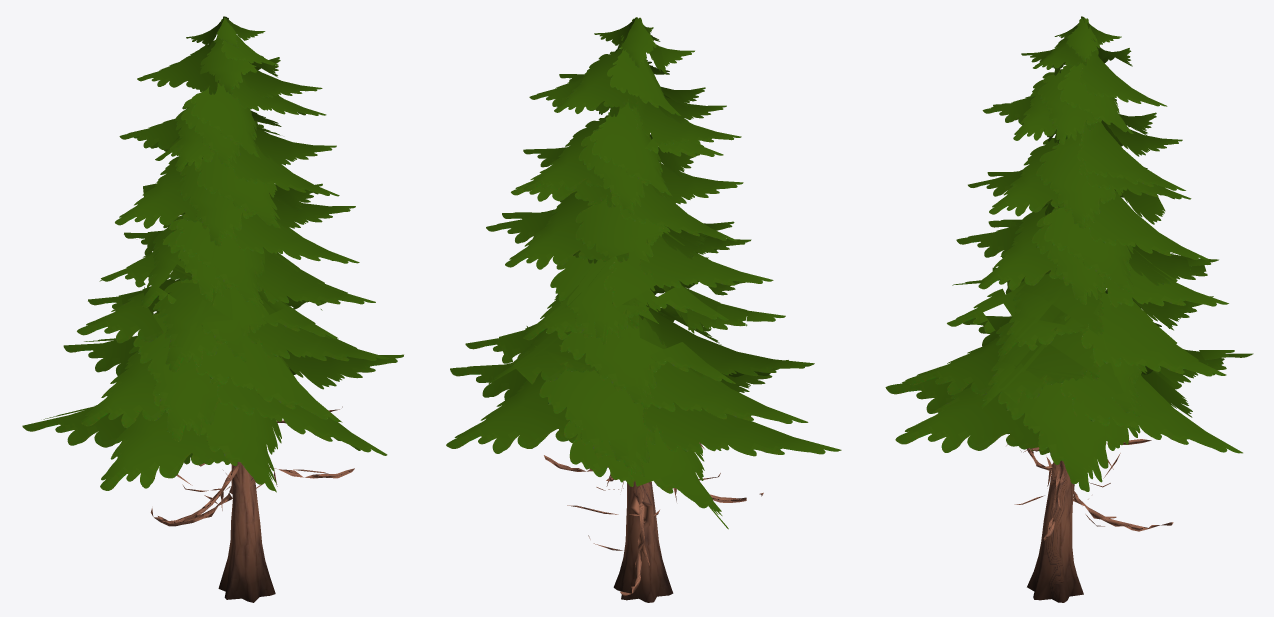
The model's file is Pine_4.glb.
3 renders of one model, left to right at view 1: azimuth 30°, elevation 25°; view 2: azimuth 150°, elevation 25°; view 3: azimuth 270°, elevation 25°, orthographic. The views are drawn at different scales.
Visible parts, largest first — view 1: Pine_4; view 2: Pine_4; view 3: Pine_4.
Part boxes in pixels (x1=…): Pine_4: x1=22, y1=16, x2=403, y2=602; Pine_4: x1=446, y1=17, x2=841, y2=602; Pine_4: x1=885, y1=16, x2=1253, y2=602.
Bounding box in the file's own units: 6.71 × 10.3 × 6.22.
2 materials, 2 textured.
